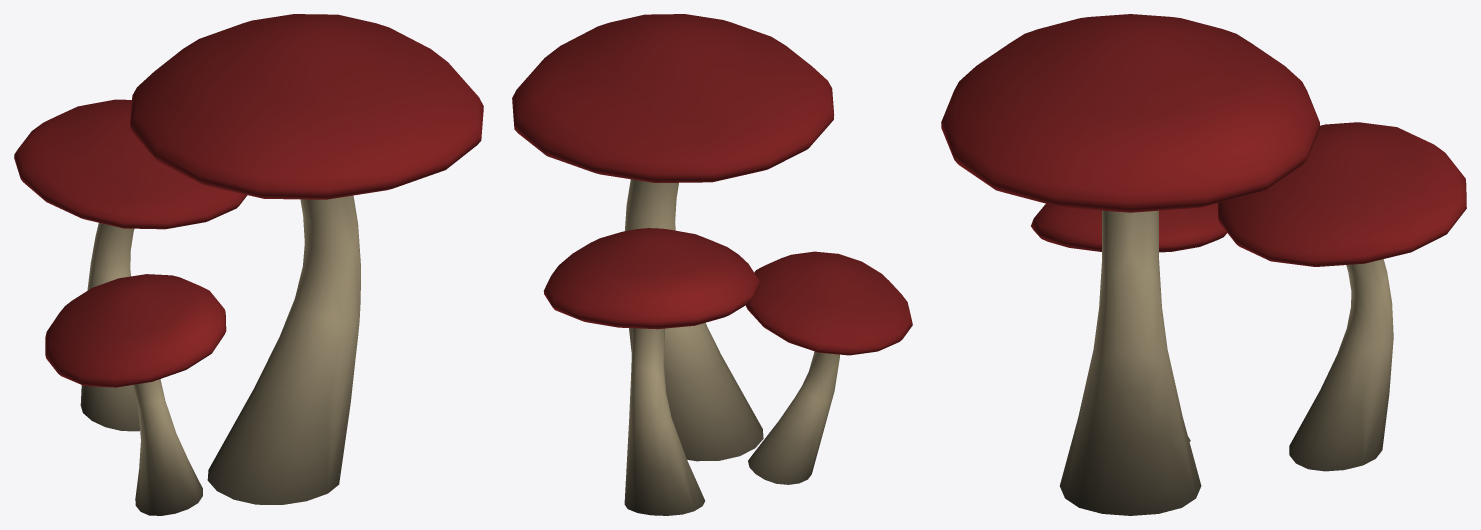
File: Mushrooms.fbx
3 views of the same model, side by side, from view 1: azimuth 30°, elevation 25°; view 2: azimuth 150°, elevation 25°; view 3: azimuth 270°, elevation 25° (orthographic). The views are drawn at different scales.
Visible parts, largest first — view 1: Mushrooms; view 2: Mushrooms; view 3: Mushrooms.
Boxes of the visible parts, x1,y1,x2,y2 form: Mushrooms: (14,14,483,515); Mushrooms: (512,14,912,515); Mushrooms: (941,14,1466,515).
Size of the model in its own units: 366 by 390 by 384.
